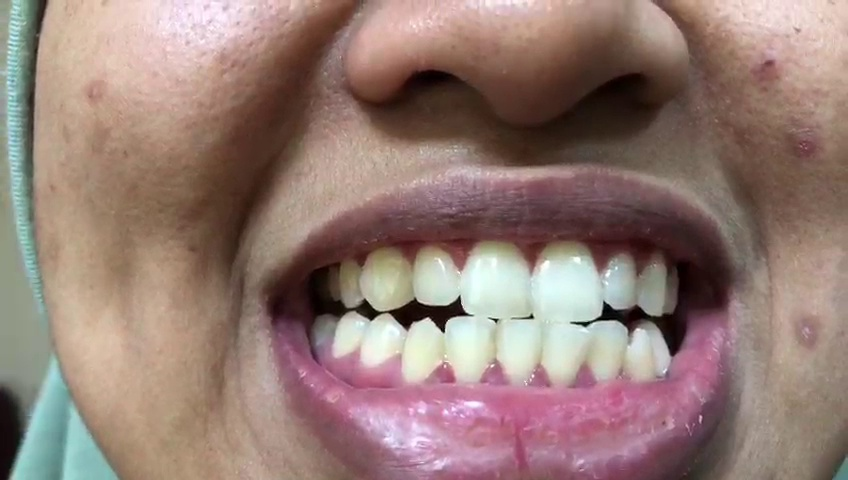1st Molar: (309, 313, 337, 352)
1st Premolar: (361, 312, 406, 368), (638, 319, 671, 375), (336, 252, 365, 311), (667, 266, 681, 317)
2nd Premolar: (334, 313, 369, 362)
Canine: (357, 245, 413, 313), (403, 316, 445, 386), (637, 254, 668, 315), (624, 329, 656, 384)
Central Incisor: (462, 235, 533, 320), (533, 239, 602, 322), (495, 317, 544, 386), (545, 322, 590, 388)
Lateral Incisor: (444, 317, 493, 385), (413, 245, 464, 306), (587, 319, 628, 385), (600, 245, 639, 308)
